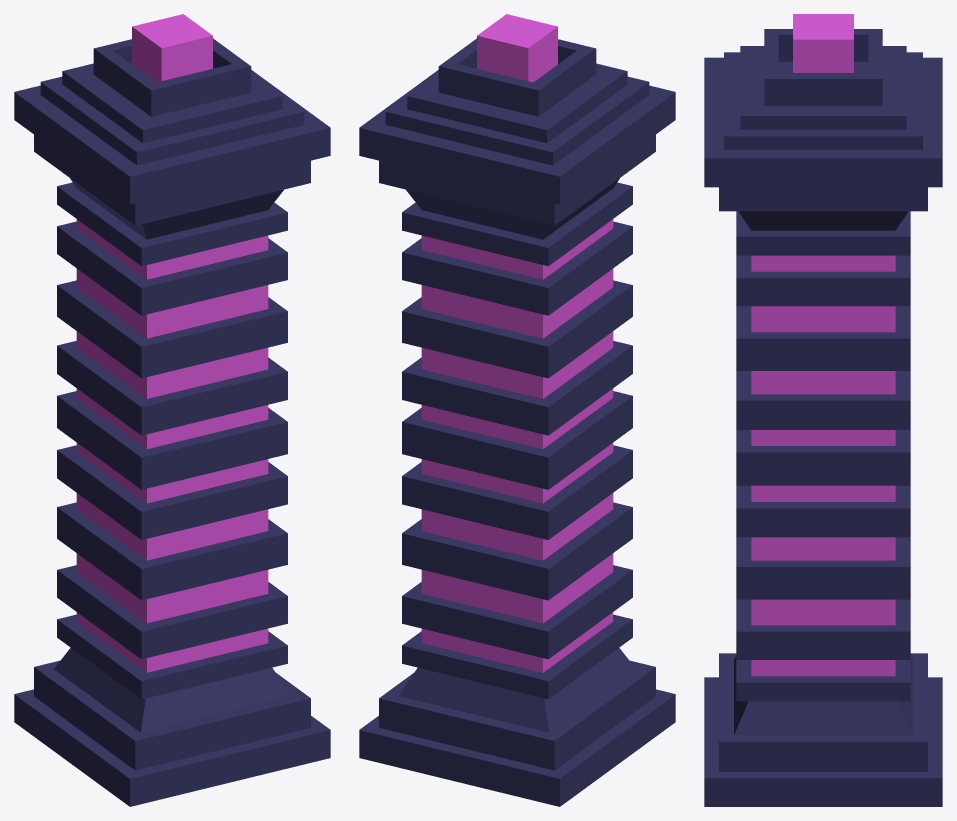
Rendered from Building_11.fbx.
3 renders of one model, left to right at view 1: azimuth 30°, elevation 25°; view 2: azimuth 150°, elevation 25°; view 3: azimuth 270°, elevation 25°, orthographic. The views are drawn at different scales.
Parts seen in each view (by area): view 1: pCube10; view 2: pCube10; view 3: pCube10.
Part boxes in pixels (x1=…): pCube10: x1=14, y1=14, x2=330, y2=806; pCube10: x1=359, y1=14, x2=675, y2=806; pCube10: x1=704, y1=14, x2=942, y2=806.
Bounding box in the file's own units: 3.41 × 11.5 × 3.41.
